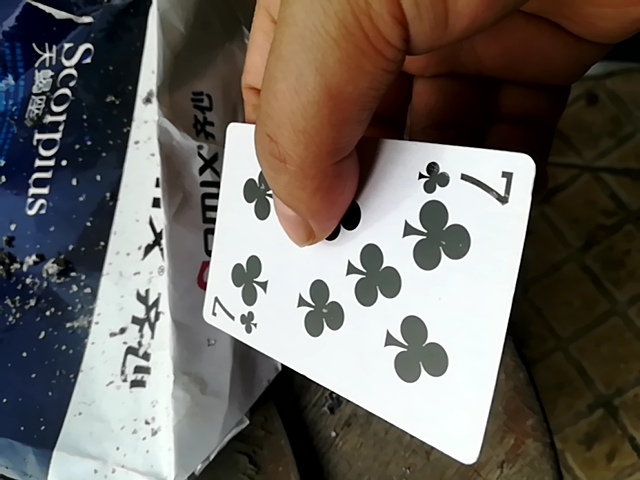mh 7: (201, 129, 541, 470)
